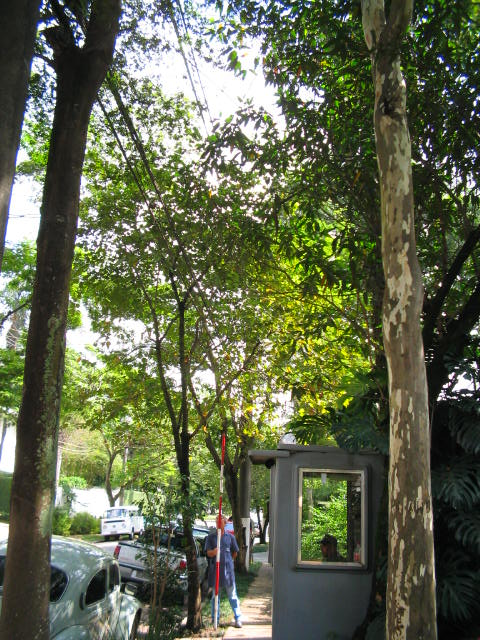crown: (71, 75, 367, 440)
stem: (3, 42, 133, 639), (350, 42, 467, 638), (163, 442, 210, 632)
stick: (209, 432, 232, 631)
tree: (68, 74, 370, 633)
